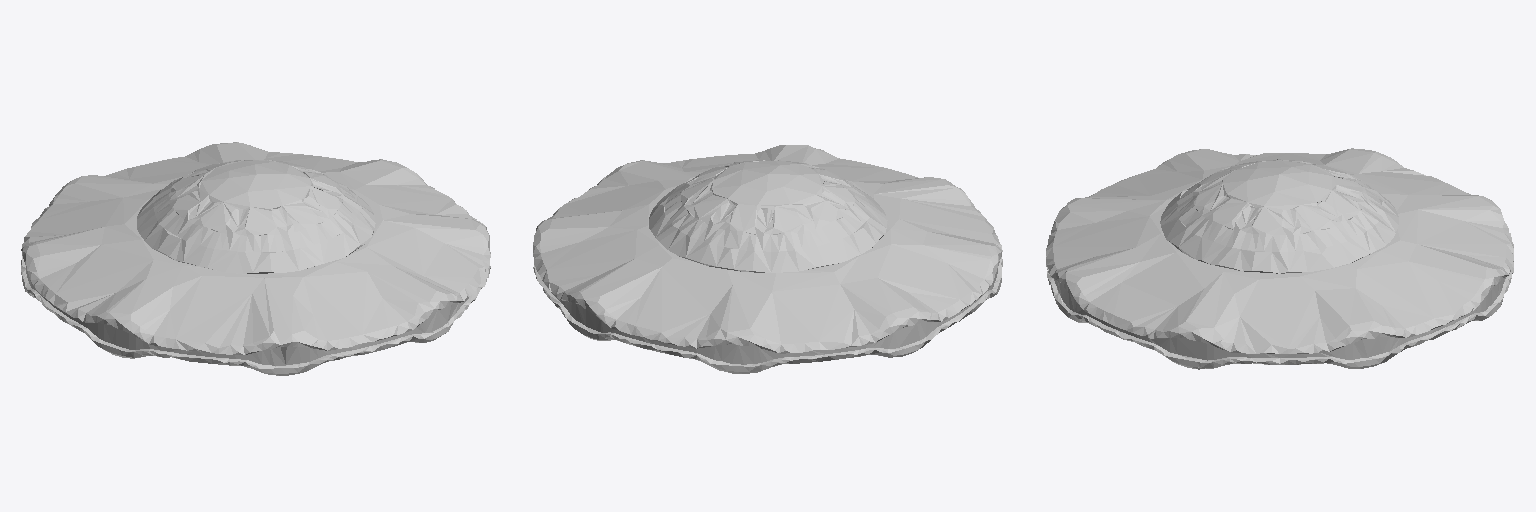
File: frame_044.obj
The picture shows the model from 3 angles: view 1: azimuth 30°, elevation 25°; view 2: azimuth 150°, elevation 25°; view 3: azimuth 270°, elevation 25°; orthographic projection.
Parts seen in each view (by area): view 1: 13884_UFO_Saucer_v1_l2; view 2: 13884_UFO_Saucer_v1_l2; view 3: 13884_UFO_Saucer_v1_l2.
Boxes of the visible parts, <box> form: 13884_UFO_Saucer_v1_l2: <box>21,142,490,375</box>; 13884_UFO_Saucer_v1_l2: <box>533,145,1002,373</box>; 13884_UFO_Saucer_v1_l2: <box>1046,148,1513,369</box>.
Size of the model in its own units: 12.69 by 4.88 by 12.7.